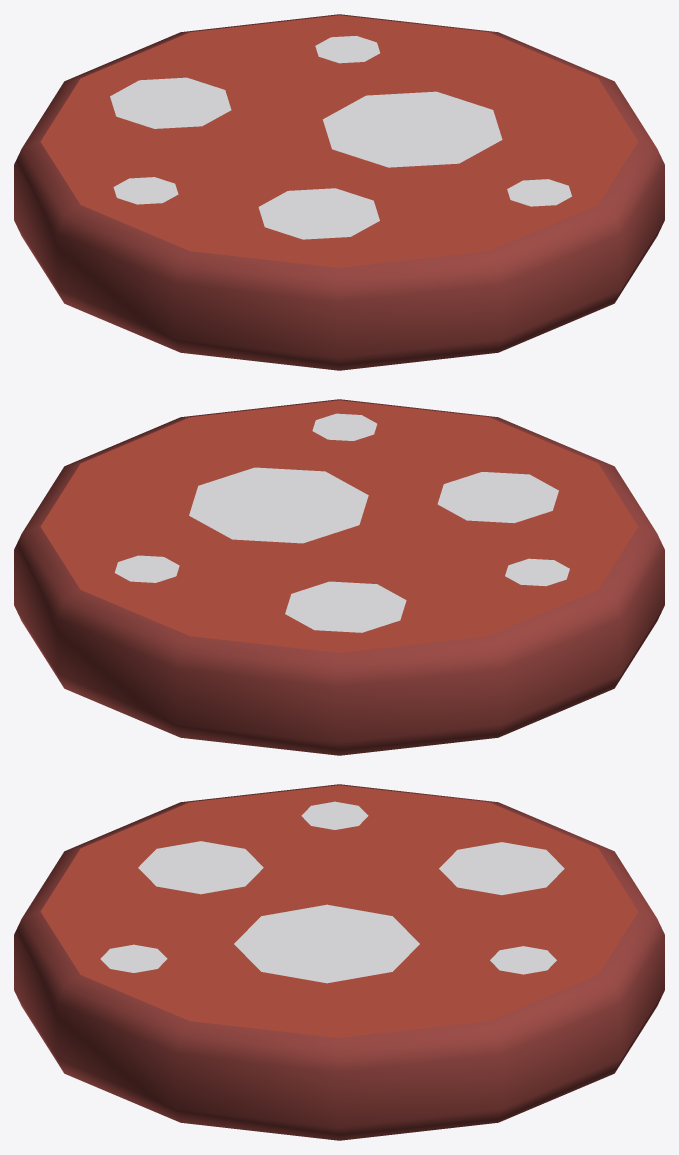
File: Sausage_slise.001.fbx
3 views of the same model, one above another, from view 1: azimuth 30°, elevation 25°; view 2: azimuth 150°, elevation 25°; view 3: azimuth 270°, elevation 25° (orthographic).
Visible parts, largest first — view 1: Sausage_slise.001; view 2: Sausage_slise.001; view 3: Sausage_slise.001.
Boxes of the visible parts, box(x1,y1,x2,y2) form: Sausage_slise.001: box(14, 14, 664, 370); Sausage_slise.001: box(14, 399, 664, 755); Sausage_slise.001: box(14, 784, 664, 1140).
Bounding box in the file's own units: 66.66 × 66.66 × 11.55.
